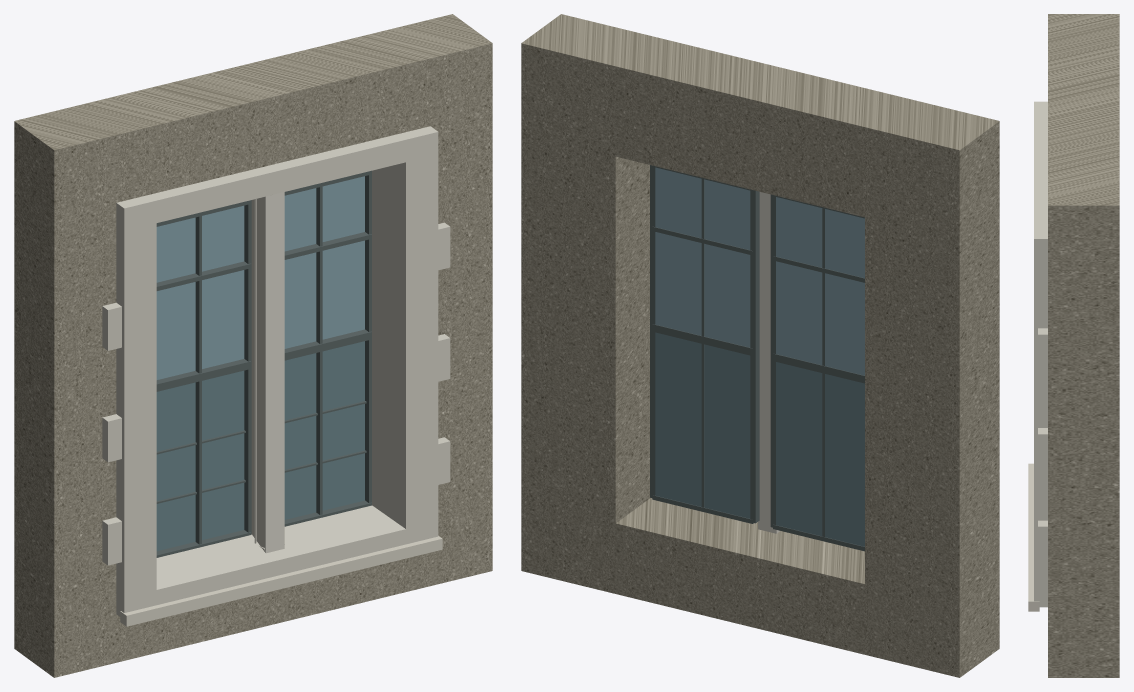
The model's file is shixi-school-keyed-paired-window-far.glb.
3 renders of one model, left to right at view 1: azimuth 30°, elevation 25°; view 2: azimuth 150°, elevation 25°; view 3: azimuth 270°, elevation 25°, orthographic. The views are drawn at different scales.
Visible parts, largest first — view 1: 市西中学2号楼双扇窗与咬接石窗套; view 2: 市西中学2号楼双扇窗与咬接石窗套; view 3: 市西中学2号楼双扇窗与咬接石窗套.
Boxes of the visible parts, left/top/right/bottom form: 市西中学2号楼双扇窗与咬接石窗套: left=14, top=14, right=492, bottom=677; 市西中学2号楼双扇窗与咬接石窗套: left=521, top=14, right=999, bottom=677; 市西中学2号楼双扇窗与咬接石窗套: left=1028, top=14, right=1119, bottom=677.
Size of the model in its own units: 2.34 by 2.69 by 0.472.
8 materials, 1 textured.
